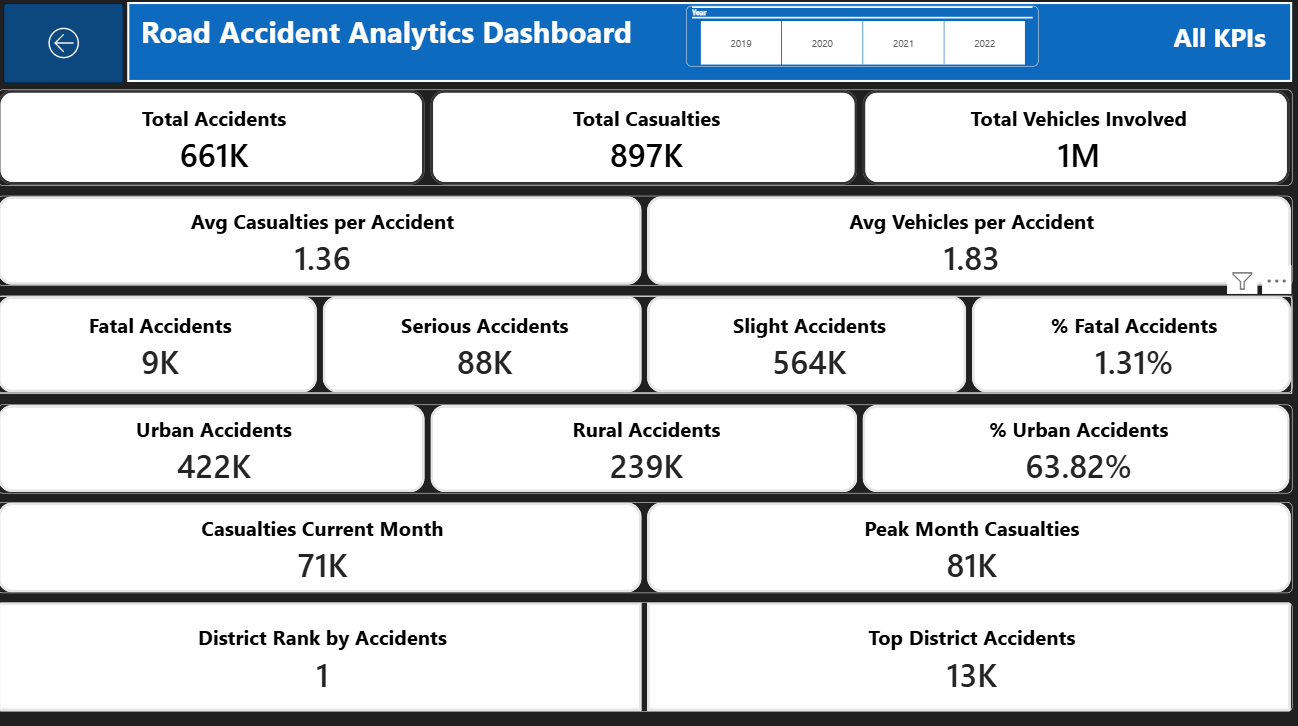

The page's visual inventory and layout, read from the dashboard file:
{"tool":"powerbi","page":{"name":"07_All KPIs","canvas":[1920,1080],"ordinal":6},"visuals":[{"type":"cardVisual","fields":{"Data":["accident data.Total Accidents","accident data.Total Casualties","accident data.Total Vehicles Involved"]},"box":[23.5,133.9,1874.8,139.3],"z":0},{"type":"cardVisual","fields":{"Data":["accident data.Avg Casualties per Accident","accident data.Avg Vehicles per Accident"]},"box":[23.5,287.7,1874.8,130.3],"z":1000},{"type":"cardVisual","fields":{"Data":["accident data.Fatal Accidents","accident data.Serious Accidents","accident data.Slight Accidents","accident data.% Fatal Accidents"]},"box":[23.5,432.5,1874.8,141.2],"z":2000},{"type":"cardVisual","fields":{"Data":["accident data.Urban Accidents","accident data.Rural Accidents","accident data.% Urban Accidents"]},"box":[23.5,589.9,1874.8,128.5],"z":3000},{"type":"cardVisual","fields":{"Data":["accident data.Casualties Current Month","accident data.Peak Month Casualties"]},"box":[23.5,731.1,1874.8,132.1],"z":4000},{"type":"cardVisual","fields":{"Data":["accident data.District Rank by Accidents","accident data.Top District Accidents"]},"box":[23.5,875.9,1874.8,159.3],"z":5000},{"type":"actionButton","box":[23.5,0,191.8,133.9],"z":6000},{"type":"shape","box":[211.7,7.2,1686.6,115.8],"z":7000},{"type":"textbox","box":[100,100,300,300],"z":8000},{"type":"textbox","box":[231.6,19.9,861.4,79.6],"z":9000},{"type":"textbox","box":[1726.4,32.6,144.8,67],"z":9001},{"type":"slicer","fields":{"Values":["accident data.Year"]},"box":[1020,12,510,88],"z":9002}]}

Visuals, with their boxes in screenshot pixels (x1, y1, x2, y2), scaled from the page's 1920x1080 canvas onto the 1298x726 screenshot:
cardVisual - accident data.Total Accidents x accident data.Total Casualties: bbox=[16, 90, 1283, 184]
cardVisual - accident data.Avg Casualties per Accident x accident data.Avg Vehicles per Accident: bbox=[16, 193, 1283, 281]
cardVisual - accident data.Fatal Accidents x accident data.Serious Accidents: bbox=[16, 291, 1283, 386]
cardVisual - accident data.Urban Accidents x accident data.Rural Accidents: bbox=[16, 397, 1283, 483]
cardVisual - accident data.Casualties Current Month x accident data.Peak Month Casualties: bbox=[16, 491, 1283, 580]
cardVisual - accident data.District Rank by Accidents x accident data.Top District Accidents: bbox=[16, 589, 1283, 696]
actionButton: bbox=[16, 0, 146, 90]
shape: bbox=[143, 5, 1283, 83]
textbox: bbox=[68, 67, 270, 269]
textbox: bbox=[157, 13, 739, 67]
textbox: bbox=[1167, 22, 1265, 67]
slicer - accident data.Year: bbox=[690, 8, 1034, 67]
